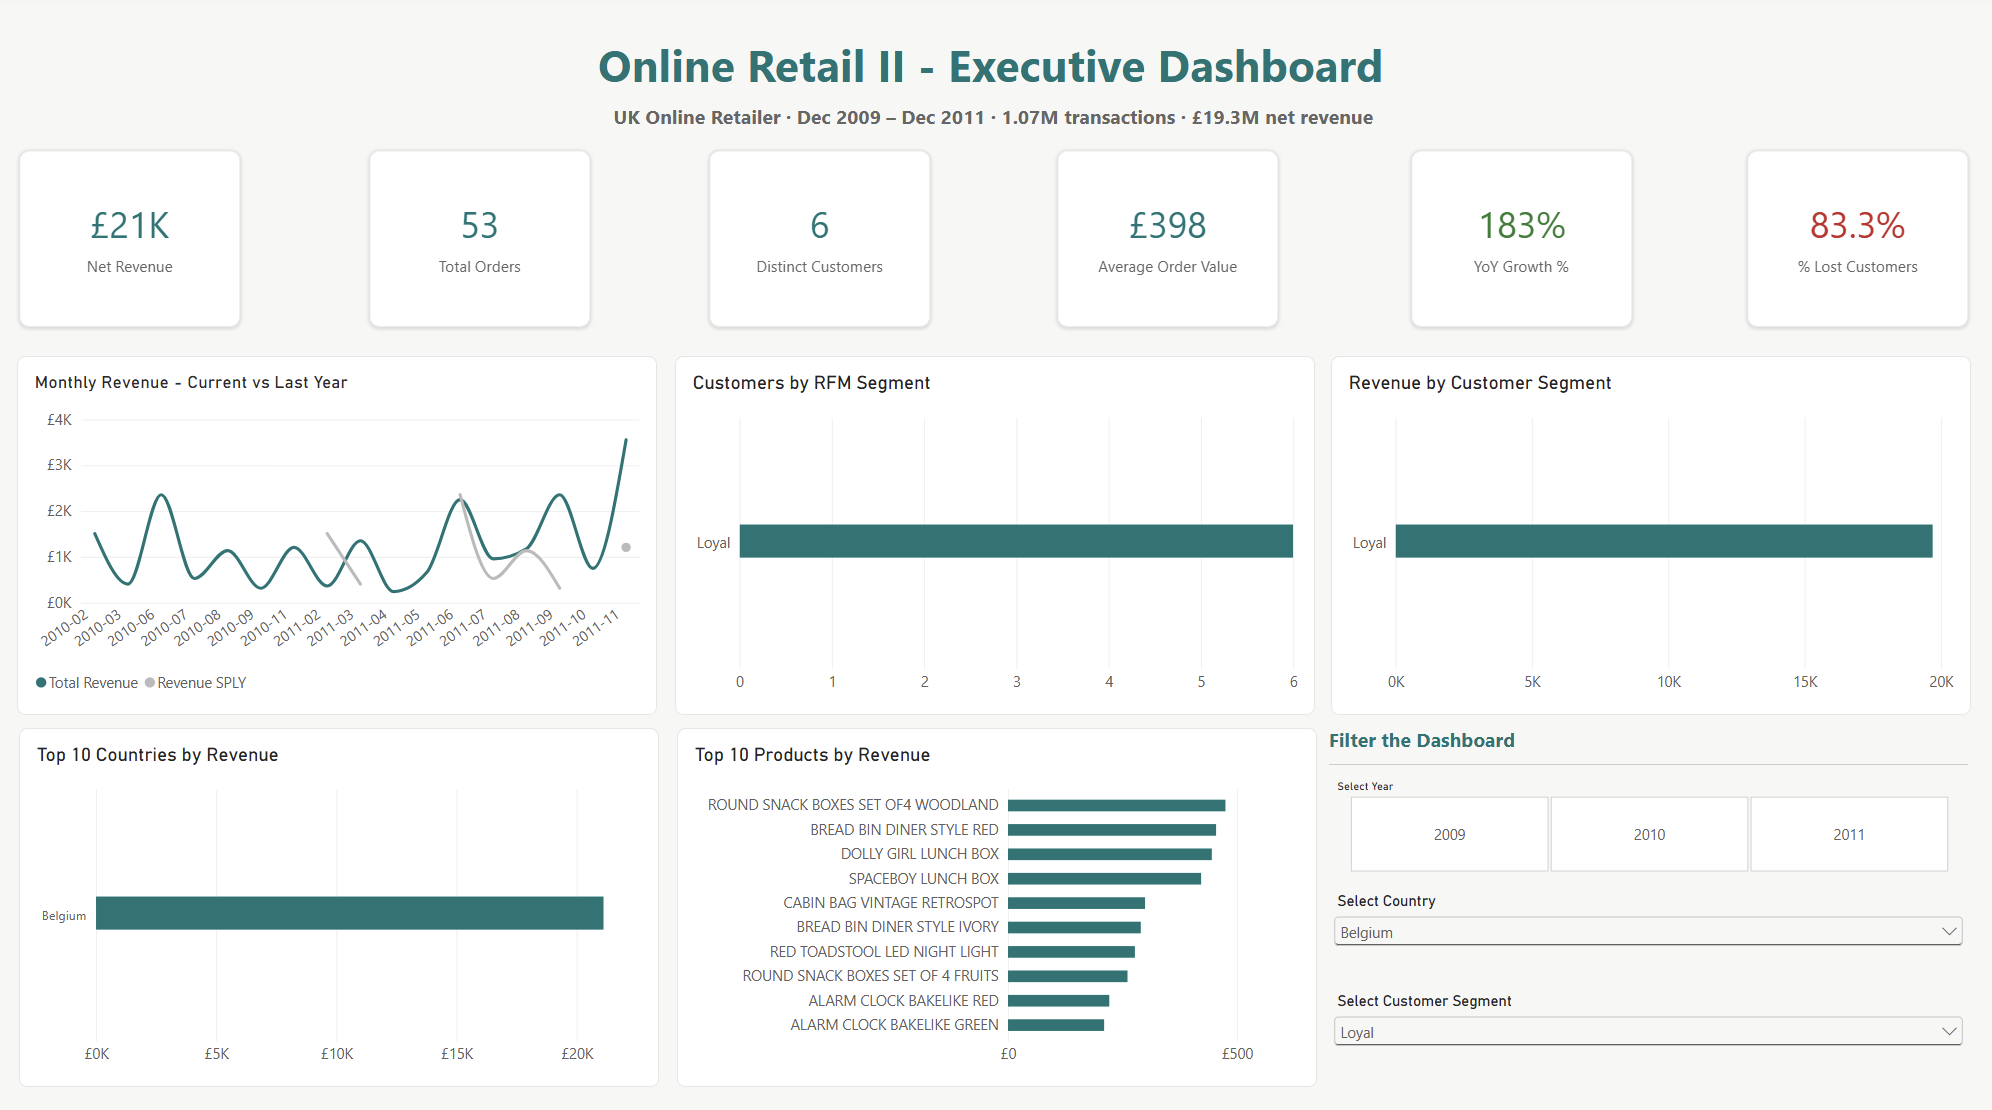

This screenshot's page, from the dashboard's own definition file:
{"tool":"powerbi","page":{"name":"Page 1","canvas":[1920,1080],"ordinal":0},"visuals":[{"type":"textbox","box":[0,0,1920,150.8],"z":0},{"type":"advanceCardE03760C5AB684758B56AA29F9E6C257B","fields":{"mainMeasure":["_Measures.Net Revenue"]},"box":[20.9,151.2,212.8,170.7],"z":1000},{"type":"advanceCardE03760C5AB684758B56AA29F9E6C257B","fields":{"mainMeasure":["_Measures.Total Orders"]},"box":[358.1,151.2,212.8,170.7],"z":2000},{"type":"advanceCardE03760C5AB684758B56AA29F9E6C257B","fields":{"mainMeasure":["_Measures.Distinct Customers"]},"box":[683.7,151.2,212.8,170.7],"z":3000},{"type":"advanceCardE03760C5AB684758B56AA29F9E6C257B","fields":{"mainMeasure":["_Measures.Average Order Value"]},"box":[1018.6,151.2,212.8,170.7],"z":4000},{"type":"advanceCardE03760C5AB684758B56AA29F9E6C257B","fields":{"mainMeasure":["_Measures.YoY Growth %"]},"box":[1358.1,151.2,212.8,170.7],"z":5000},{"type":"advanceCardE03760C5AB684758B56AA29F9E6C257B","fields":{"mainMeasure":["_Measures.% Lost Customers"]},"box":[1681.4,151.2,212.8,170.7],"z":6000},{"type":"lineChart","title":"Monthly Revenue - Current vs Last Year","fields":{"Category":["DateTable.YearMonth"],"Y":["_Measures.Total Revenue","_Measures.Revenue SPLY"]},"box":[20,350,615,345],"z":7000},{"type":"barChart","title":"Customers by RFM Segment","fields":{"Category":["CustomerRFM.Segment"],"Y":["CountNonNull(CustomerRFM.Customer ID)"]},"box":[650.7,350,615,345],"z":8000},{"type":"barChart","title":"Top 10 Countries by Revenue","fields":{"Category":["Transactions.Country"],"Y":["_Measures.Net Revenue"]},"box":[20.9,707,615,345],"z":9000},{"type":"barChart","title":"Top 10 Products by Revenue","fields":{"Category":["Transactions.Description"],"Y":["_Measures.Net Revenue"]},"box":[653.5,707,615,345],"z":10000},{"type":"slicer","fields":{"Values":["DateTable.Year"]},"box":[1280.2,757,614,90],"z":11000},{"type":"slicer","fields":{"Values":["Transactions.Country"]},"box":[1280.2,864,614,88],"z":12000},{"type":"slicer","fields":{"Values":["CustomerRFM.Segment"]},"box":[1280.2,961.6,614,88.4],"z":13000},{"type":"textbox","box":[1280.2,705.8,181.4,25.6],"z":14000},{"type":"shape","box":[1280.2,729.1,614,27.9],"z":15000},{"type":"barChart","title":"Revenue by Customer Segment","fields":{"Category":["CustomerRFM.Segment"],"Y":["Sum(CustomerRFM.Monetary)"]},"box":[1281.4,350,615,345],"z":16000}]}

Visuals, with their boxes in screenshot pixels (x1, y1, x2, y2), scaled from the page's 1920x1080 canvas onto the 1992x1110 screenshot:
textbox: BBox(0, 0, 1991, 155)
advanceCardE03760C5AB684758B56AA29F9E6C257B - _Measures.Net Revenue: BBox(22, 155, 242, 331)
advanceCardE03760C5AB684758B56AA29F9E6C257B - _Measures.Total Orders: BBox(372, 155, 592, 331)
advanceCardE03760C5AB684758B56AA29F9E6C257B - _Measures.Distinct Customers: BBox(709, 155, 930, 331)
advanceCardE03760C5AB684758B56AA29F9E6C257B - _Measures.Average Order Value: BBox(1057, 155, 1278, 331)
advanceCardE03760C5AB684758B56AA29F9E6C257B - _Measures.YoY Growth %: BBox(1409, 155, 1630, 331)
advanceCardE03760C5AB684758B56AA29F9E6C257B - _Measures.% Lost Customers: BBox(1744, 155, 1965, 331)
"Monthly Revenue - Current vs Last Year" lineChart: BBox(21, 360, 659, 714)
"Customers by RFM Segment" barChart: BBox(675, 360, 1313, 714)
"Top 10 Countries by Revenue" barChart: BBox(22, 727, 660, 1081)
"Top 10 Products by Revenue" barChart: BBox(678, 727, 1316, 1081)
slicer - DateTable.Year: BBox(1328, 778, 1965, 871)
slicer - Transactions.Country: BBox(1328, 888, 1965, 978)
slicer - CustomerRFM.Segment: BBox(1328, 988, 1965, 1079)
textbox: BBox(1328, 725, 1516, 752)
shape: BBox(1328, 749, 1965, 778)
"Revenue by Customer Segment" barChart: BBox(1329, 360, 1968, 714)
